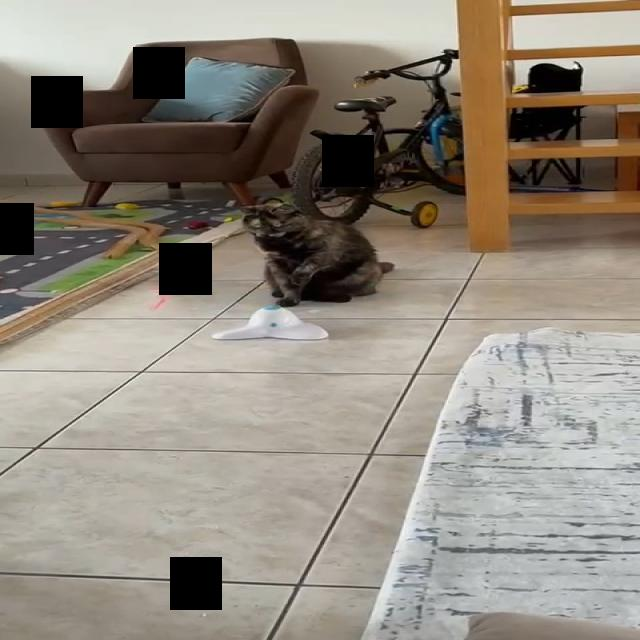authorized: (237, 195, 395, 307)
